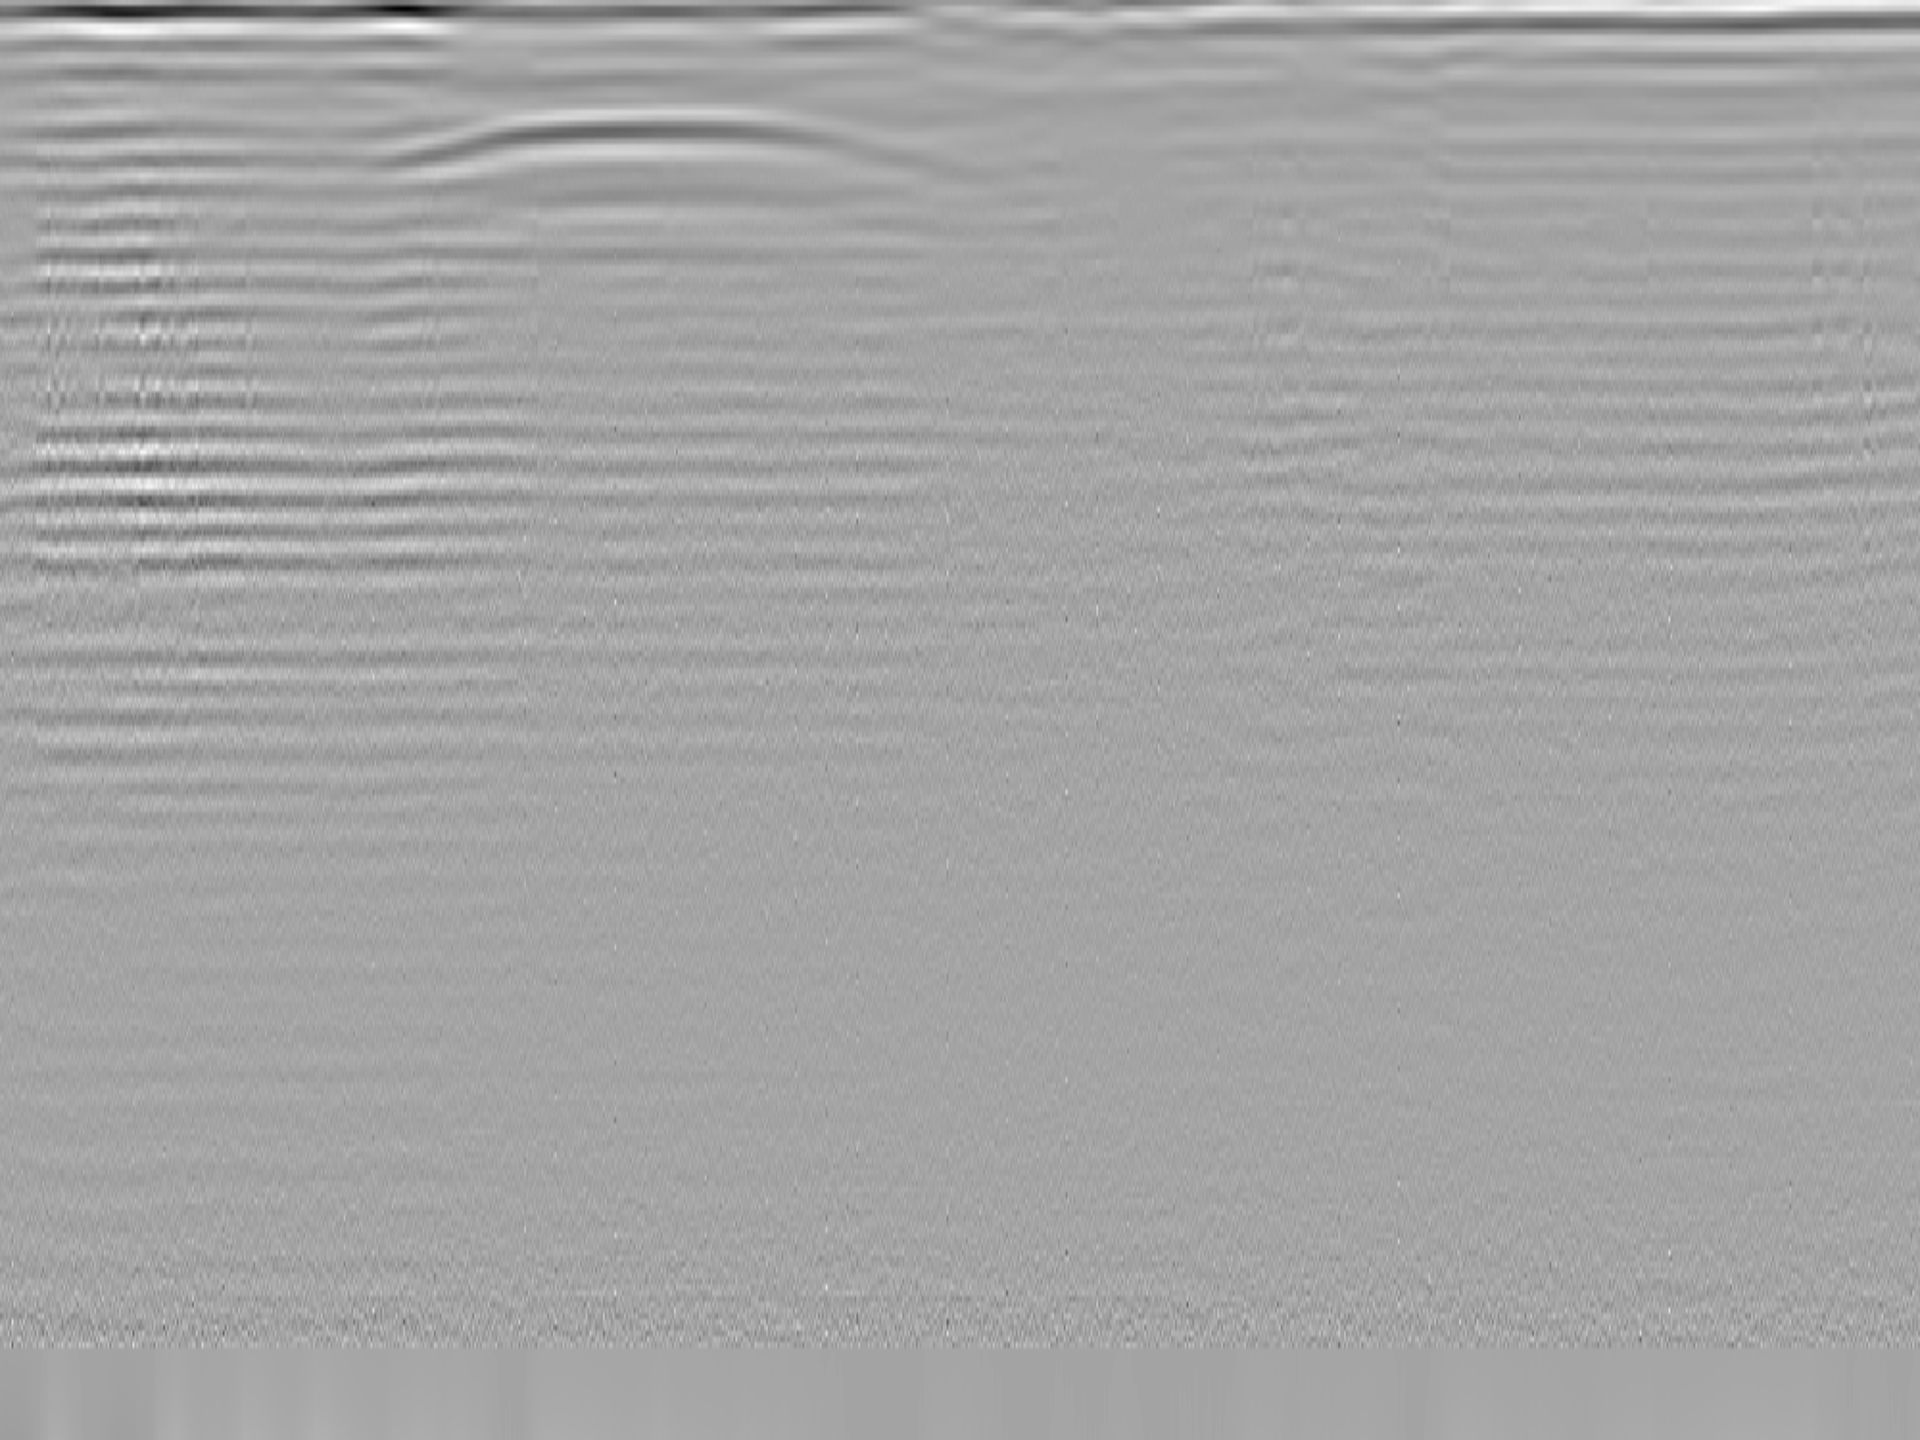Tunnel: (367, 109, 999, 191)
